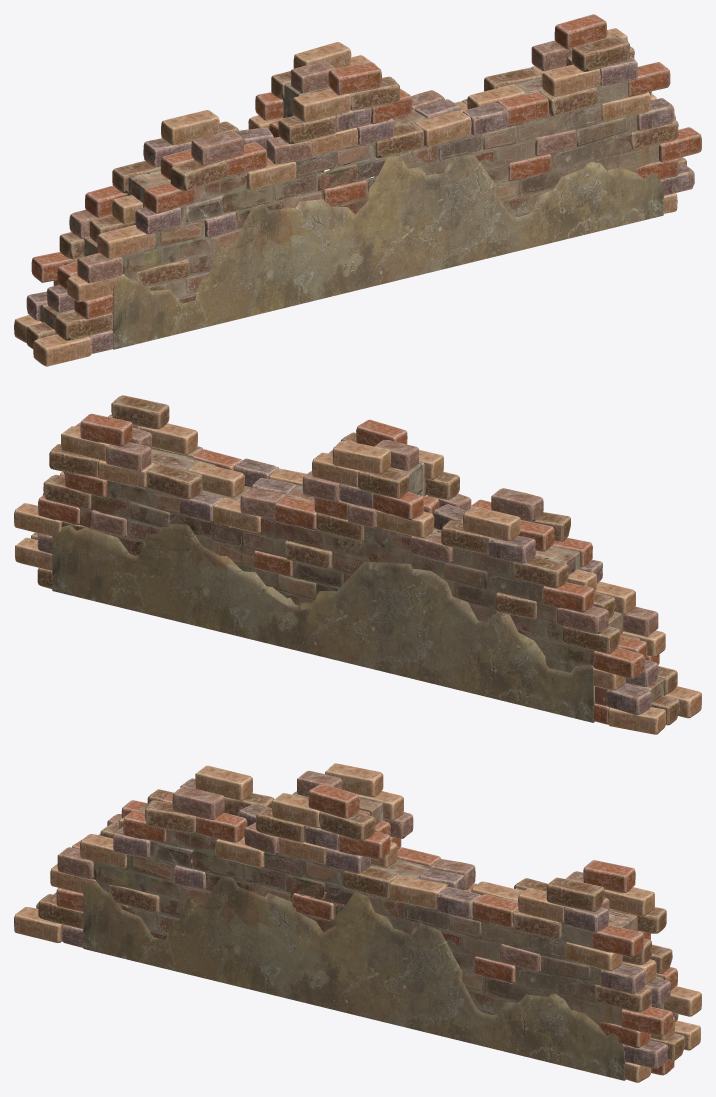
3 views of the same model, one above another, from view 1: azimuth 30°, elevation 25°; view 2: azimuth 150°, elevation 25°; view 3: azimuth 330°, elevation 25° (orthographic).
Parts seen in each view (by area): view 1: SM_Human_Ruins_LowWall_Dmg_02_LOD0; view 2: SM_Human_Ruins_LowWall_Dmg_02_LOD0; view 3: SM_Human_Ruins_LowWall_Dmg_02_LOD0.
Boxes of the visible parts, bbox=[...] form: SM_Human_Ruins_LowWall_Dmg_02_LOD0: bbox=[14, 14, 701, 366]; SM_Human_Ruins_LowWall_Dmg_02_LOD0: bbox=[14, 395, 701, 734]; SM_Human_Ruins_LowWall_Dmg_02_LOD0: bbox=[14, 763, 701, 1082].
Bounding box in the file's own units: 4.8 × 1.49 × 0.5965.
Materials: 3 (3 with a texture image).
